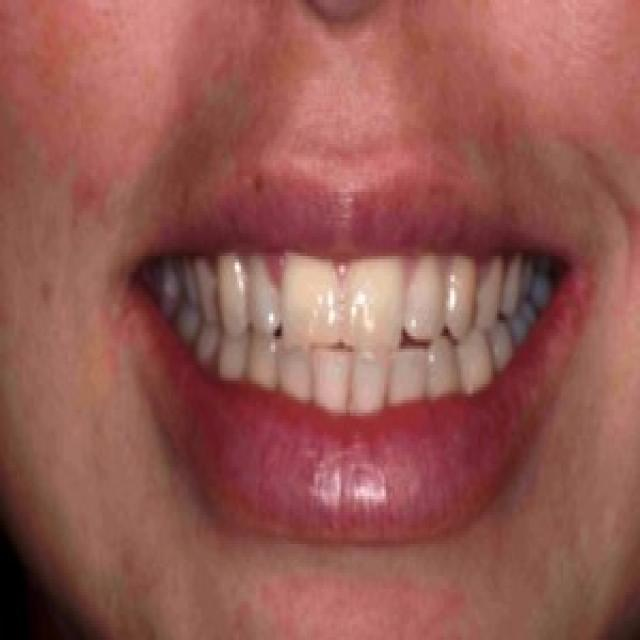tooth: (282, 259, 341, 355), (342, 262, 404, 349), (403, 259, 446, 346), (246, 259, 280, 336), (213, 260, 250, 326), (442, 262, 476, 333), (314, 358, 354, 416), (454, 342, 491, 397), (277, 358, 316, 409), (166, 294, 198, 352), (354, 352, 386, 410), (388, 352, 429, 397), (198, 250, 222, 323), (424, 342, 454, 397), (252, 336, 279, 397), (495, 256, 520, 320), (478, 253, 501, 320), (489, 327, 516, 378), (222, 332, 245, 378), (200, 330, 220, 368), (522, 259, 536, 304), (179, 266, 196, 300), (514, 320, 536, 336)
